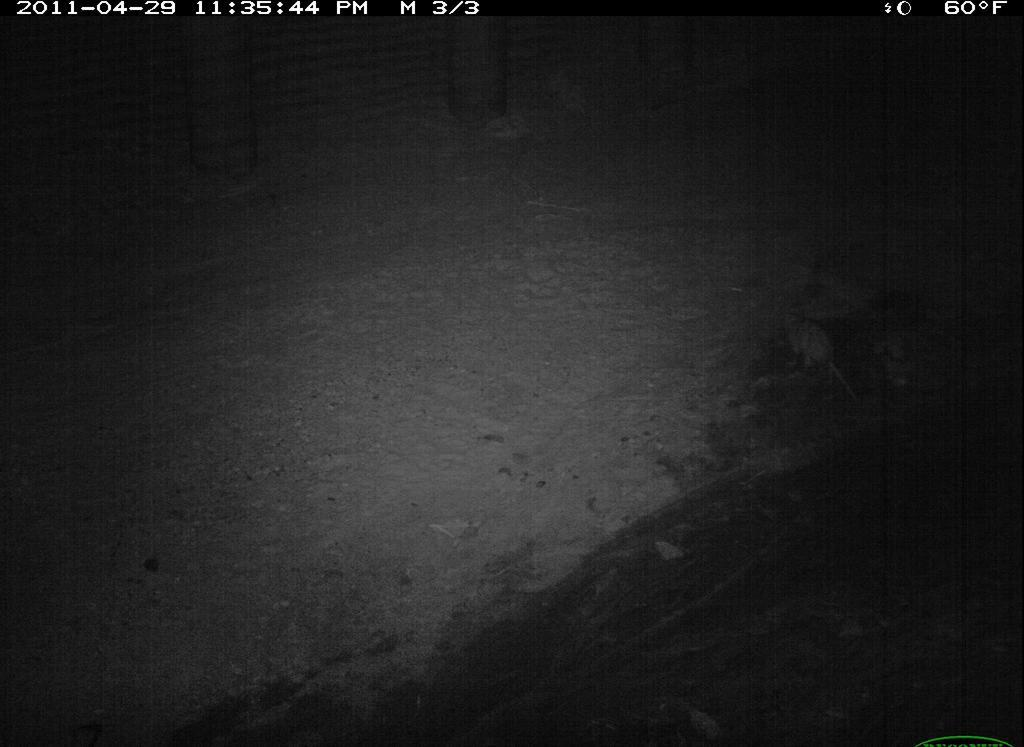opossum: (775, 298, 867, 416)
